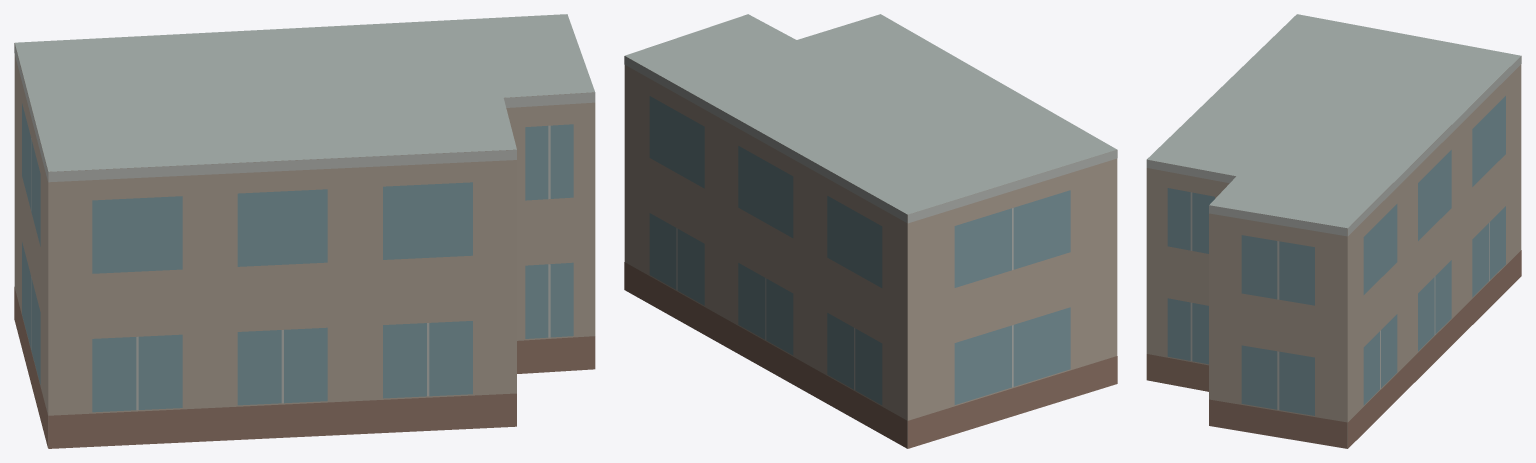
Rendered from survey-upis-32670312.glb.
3 renders of one model, left to right at view 1: azimuth 30°, elevation 25°; view 2: azimuth 150°, elevation 25°; view 3: azimuth 270°, elevation 25°, orthographic. The views are drawn at different scales.
Parts seen in each view (by area): view 1: survey-upis-32670312.tmp; view 2: survey-upis-32670312.tmp; view 3: survey-upis-32670312.tmp.
Boxes of the visible parts, x1,y1,x2,y2 form: survey-upis-32670312.tmp: (14,14,595,448); survey-upis-32670312.tmp: (624,14,1117,448); survey-upis-32670312.tmp: (1146,14,1521,448).
Size of the model in its own units: 13.54 by 6.5 by 10.01.
